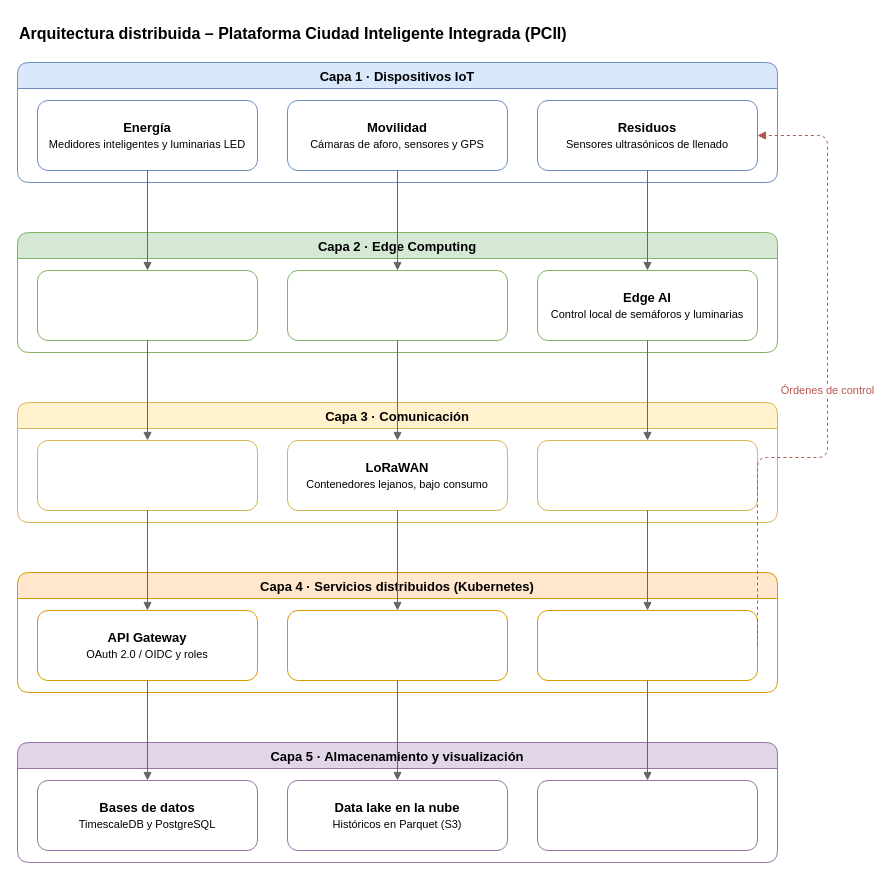
Image size: 892x880. Some labels were removed from this diagram. The centre of each missing label's shape, as x and y in pixels:
"Apache Kafka Bus de eventos · REST / gRPC" belongs at [647,475].
"Dashboards Alcaldía y app ciudadana" belongs at [647,815].
"Filtrado y agregación Limpieza y resumen por minuto" belongs at [397,305].
"Gateway por zona Broker MQTT local" belongs at [147,305].
"Microservicios Energía, movilidad, residuos, alertas (Docker)" belongs at [397,645].
"MQTT sobre TLS 4G / 5G y fibra óptica" belongs at [147,475].
"Servicios de IA Predicción de demanda y rutas óptimas" belongs at [647,645].
